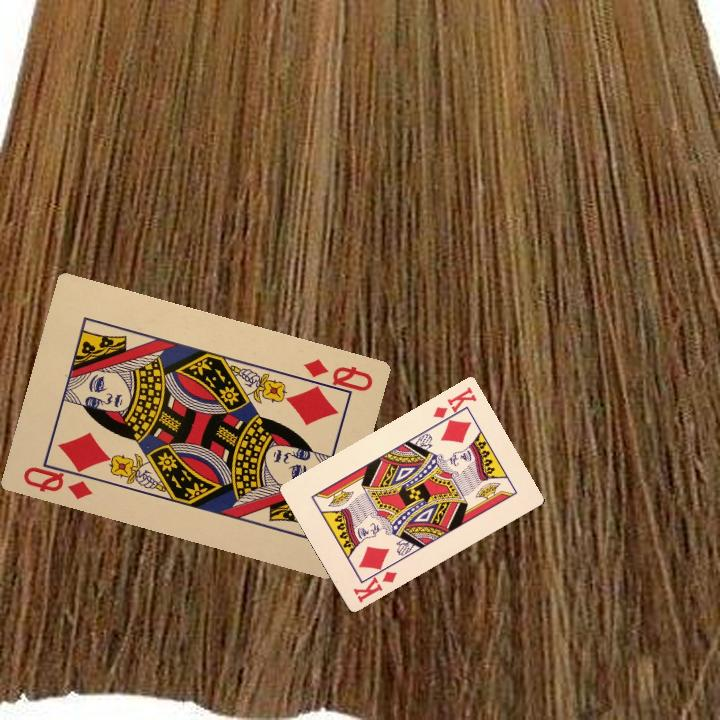Kd: (429, 383, 479, 429), (349, 561, 399, 605)
Qd: (19, 455, 98, 502), (291, 354, 376, 396)
